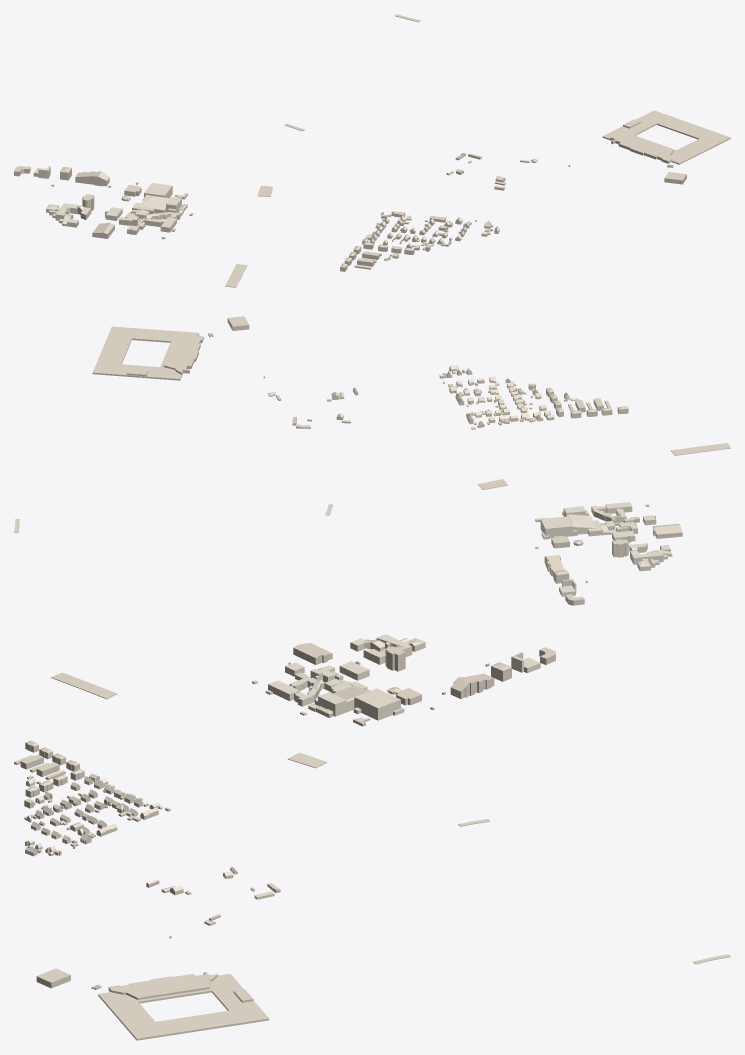
3 renders of one model, top to bottom at view 1: azimuth 30°, elevation 25°; view 2: azimuth 150°, elevation 25°; view 3: azimuth 270°, elevation 25°, orthographic. The views are drawn at different scales.
Bounding box in the file's own units: 1362 × 28.1 × 1024.
